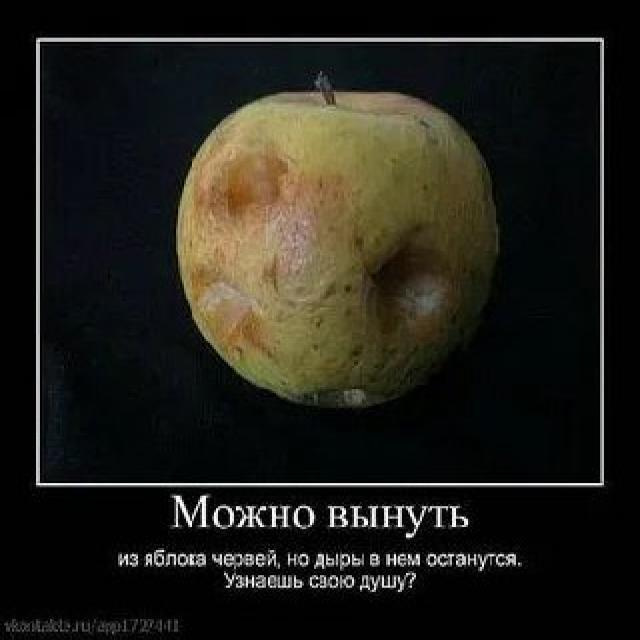Rotten: (168, 96, 498, 408)
